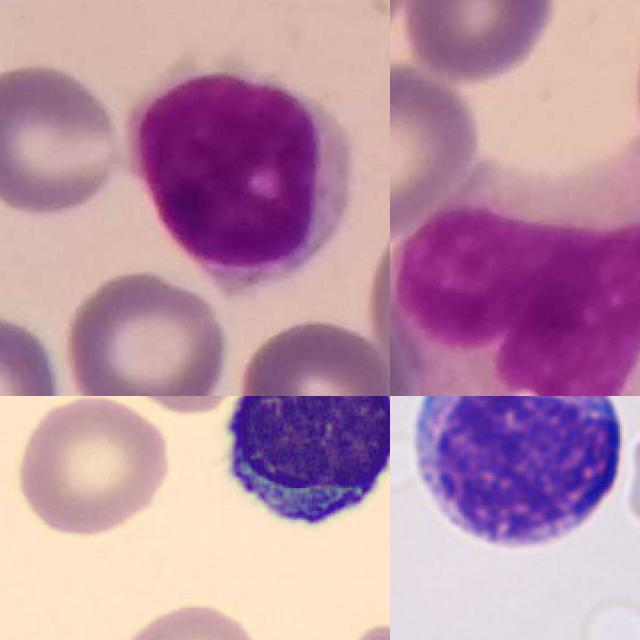Lymphocyte: (126, 49, 354, 295), (398, 396, 634, 562), (205, 396, 390, 542)
Monocyte: (405, 144, 640, 396)
RBC: (8, 396, 177, 539), (107, 597, 271, 640)
